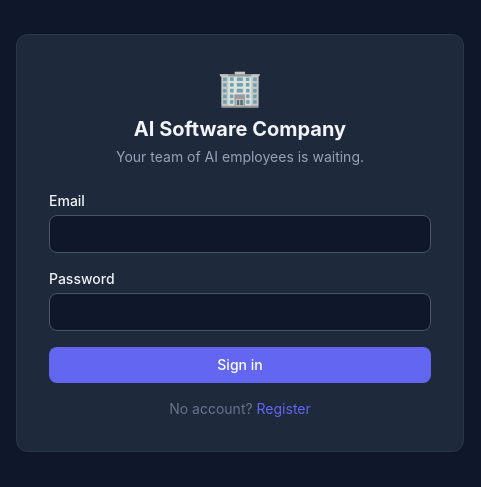
Test: LoginPage › shows the API error message on bad credentials
The width and height of the screenshot is (481, 487).
Type "user@example.com" into the field labelled "Email". click: point(240, 234)
box: [49,215,431,253]
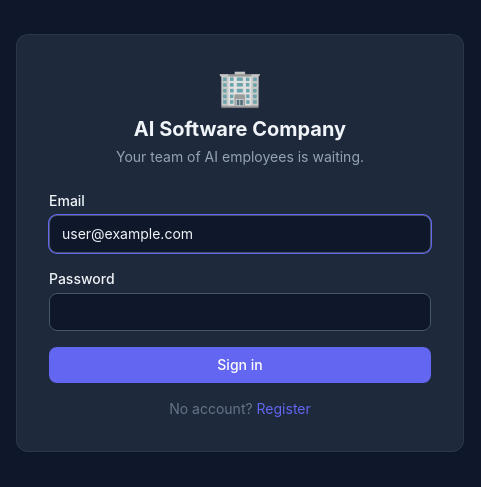
Type "wrong-password" into the password field labelled "Password". click: point(240, 312)
box: [49,293,431,331]
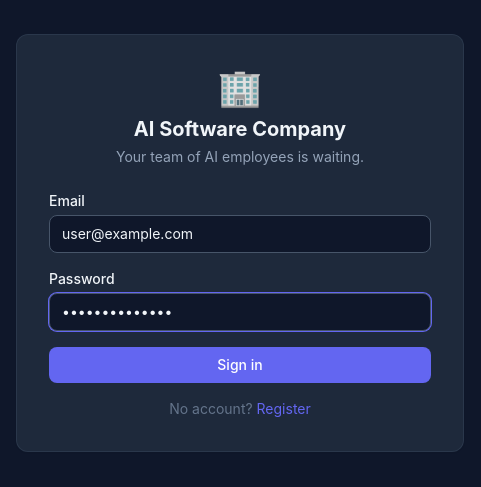
Click the button "Sign in". click: point(240, 365)
box: [49,347,431,383]
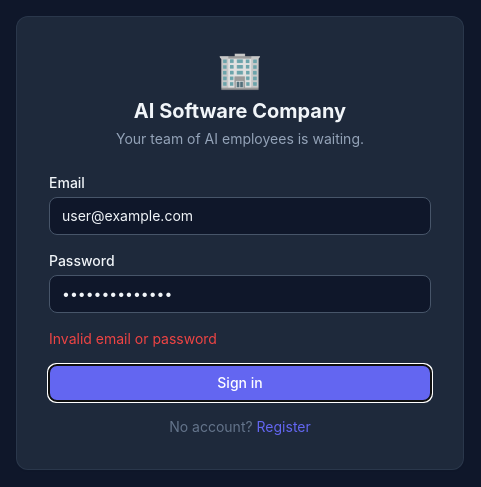
Result: the message reads "Invalid email or password" at [49,330,217,347]
